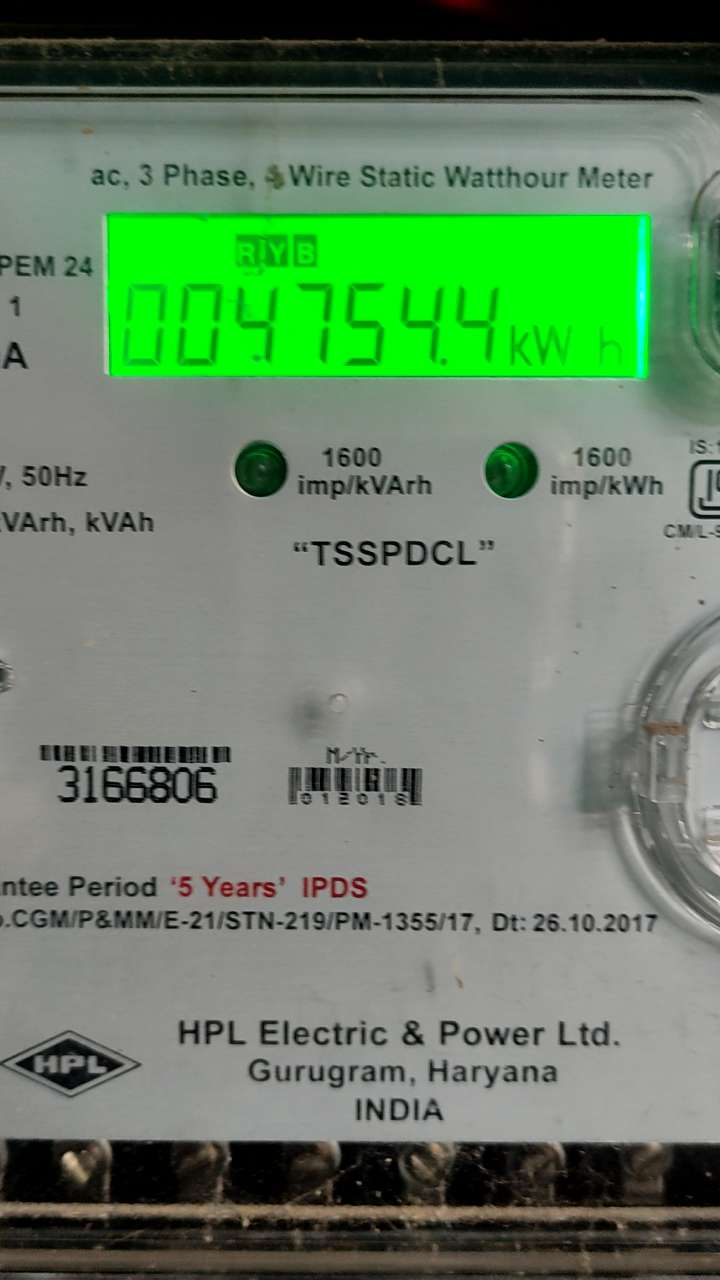meter_serial_number: (52, 763, 226, 810)
